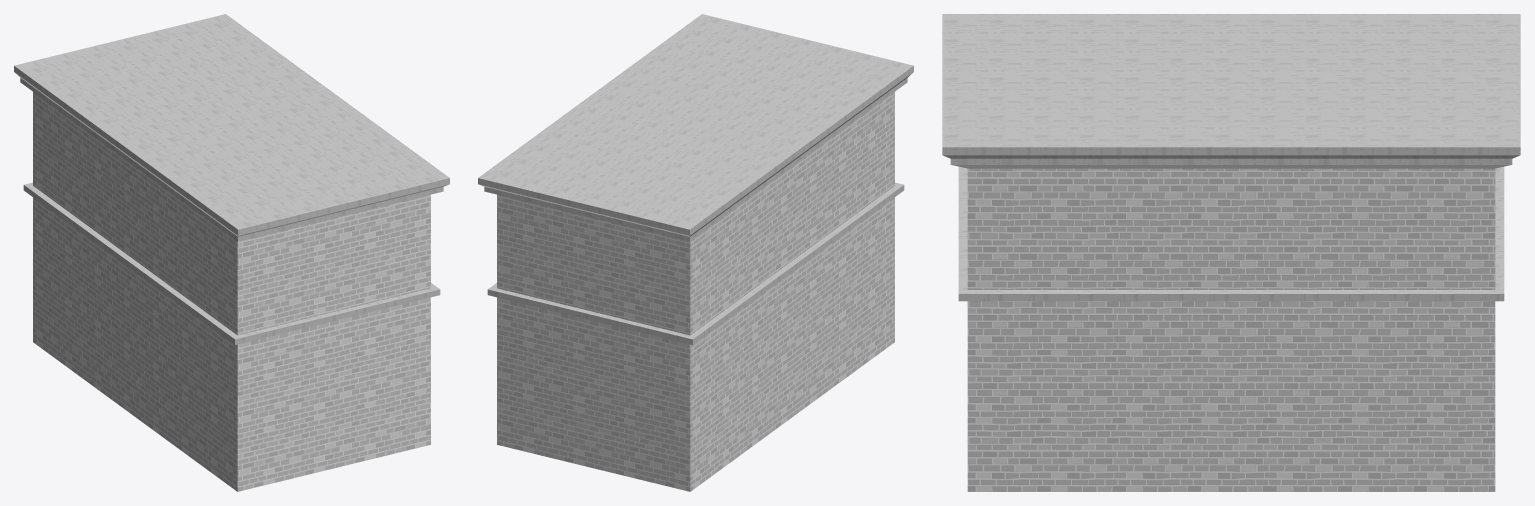
Rendered from Building_A.fbx.
The picture shows the model from 3 angles, left to right: view 1: azimuth 30°, elevation 25°; view 2: azimuth 150°, elevation 25°; view 3: azimuth 270°, elevation 25°; orthographic projection. The views are drawn at different scales.
Parts seen in each view (by area): view 1: Building_A; view 2: Building_A; view 3: Building_A.
Part boxes in pixels (box(x1,y1,x2,y2)): Building_A: box(14, 14, 449, 491); Building_A: box(478, 14, 913, 491); Building_A: box(942, 14, 1520, 491).
Bounding box in the file's own units: 2096 × 2569 × 3841.
Materials: 2 (2 with a texture image).
